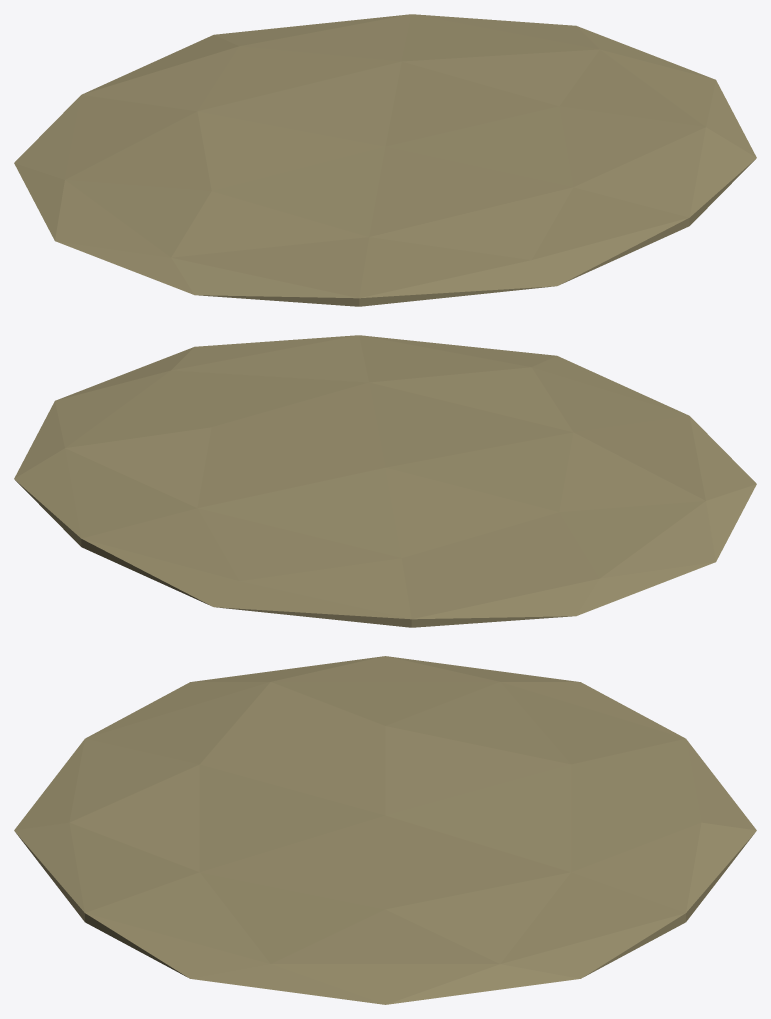
Rendered from sandy_ground.glb.
The picture shows the model from 3 angles, top to bottom: view 1: azimuth 30°, elevation 25°; view 2: azimuth 150°, elevation 25°; view 3: azimuth 270°, elevation 25°; orthographic projection. The views are drawn at different scales.
Parts seen in each view (by area): view 1: world-scenery/sandy_ground; view 2: world-scenery/sandy_ground; view 3: world-scenery/sandy_ground.
Part boxes in pixels (x1,y1,x2,y2): world-scenery/sandy_ground: (14, 14, 756, 306); world-scenery/sandy_ground: (14, 335, 756, 627); world-scenery/sandy_ground: (14, 656, 756, 1004).
Bounding box in the file's own units: 6 × 0.24 × 5.4.
